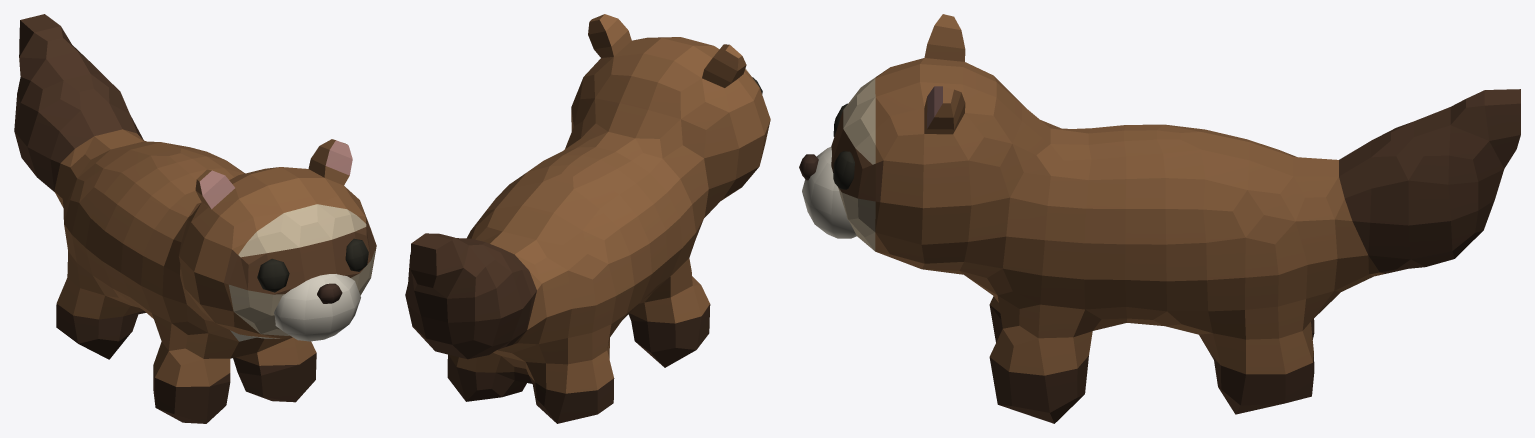
File: Ferret.glb
3 renders of one model, left to right at view 1: azimuth 30°, elevation 25°; view 2: azimuth 150°, elevation 25°; view 3: azimuth 270°, elevation 25°, orthographic. The views are drawn at different scales.
Parts seen in each view (by area): view 1: Hunt_Ferret; view 2: Hunt_Ferret; view 3: Hunt_Ferret.
Boxes of the visible parts, x1=… form: Hunt_Ferret: x1=14, y1=14, x2=376, y2=423; Hunt_Ferret: x1=405, y1=14, x2=770, y2=423; Hunt_Ferret: x1=799, y1=14, x2=1520, y2=423.
Size of the model in its own units: 0.2577 by 0.4052 by 0.762.
